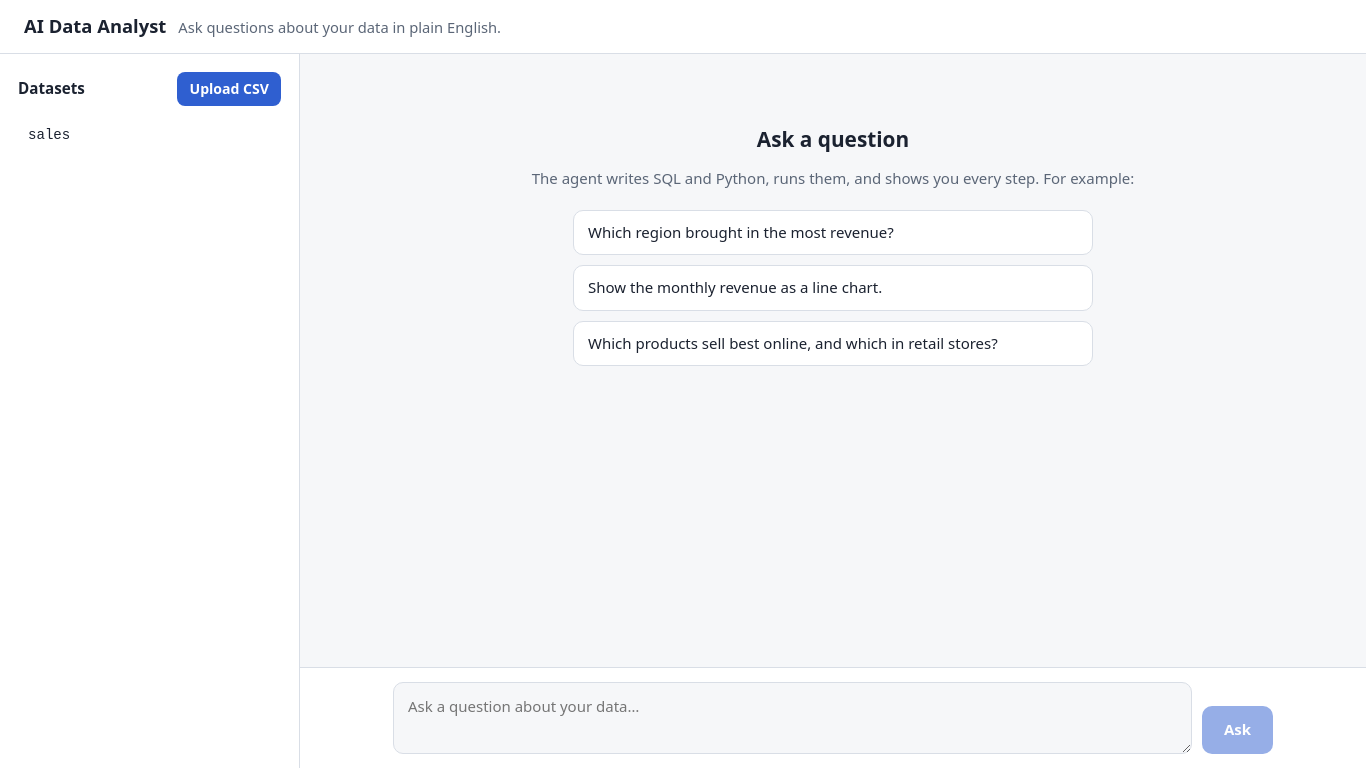
Test: DatasetPanel › shows a dataset's details when it is clicked
The image size is (1366, 768).
Click the button "sales".
click(49, 135)  # box [18, 118, 281, 153]
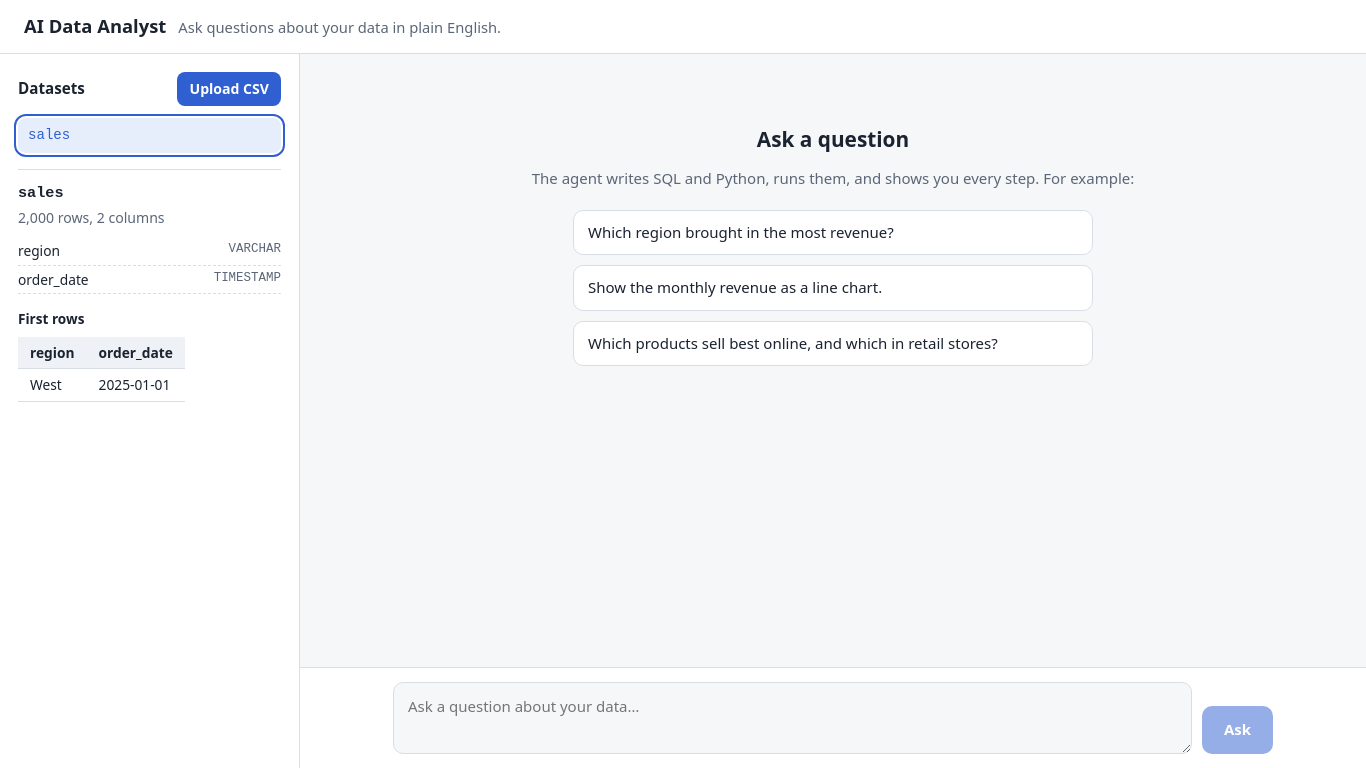
Expected: the text "2,000 rows, 2 columns" is shown, [18, 208, 165, 227]
Expected: the text "TIMESTAMP" is shown, [214, 269, 281, 290]
